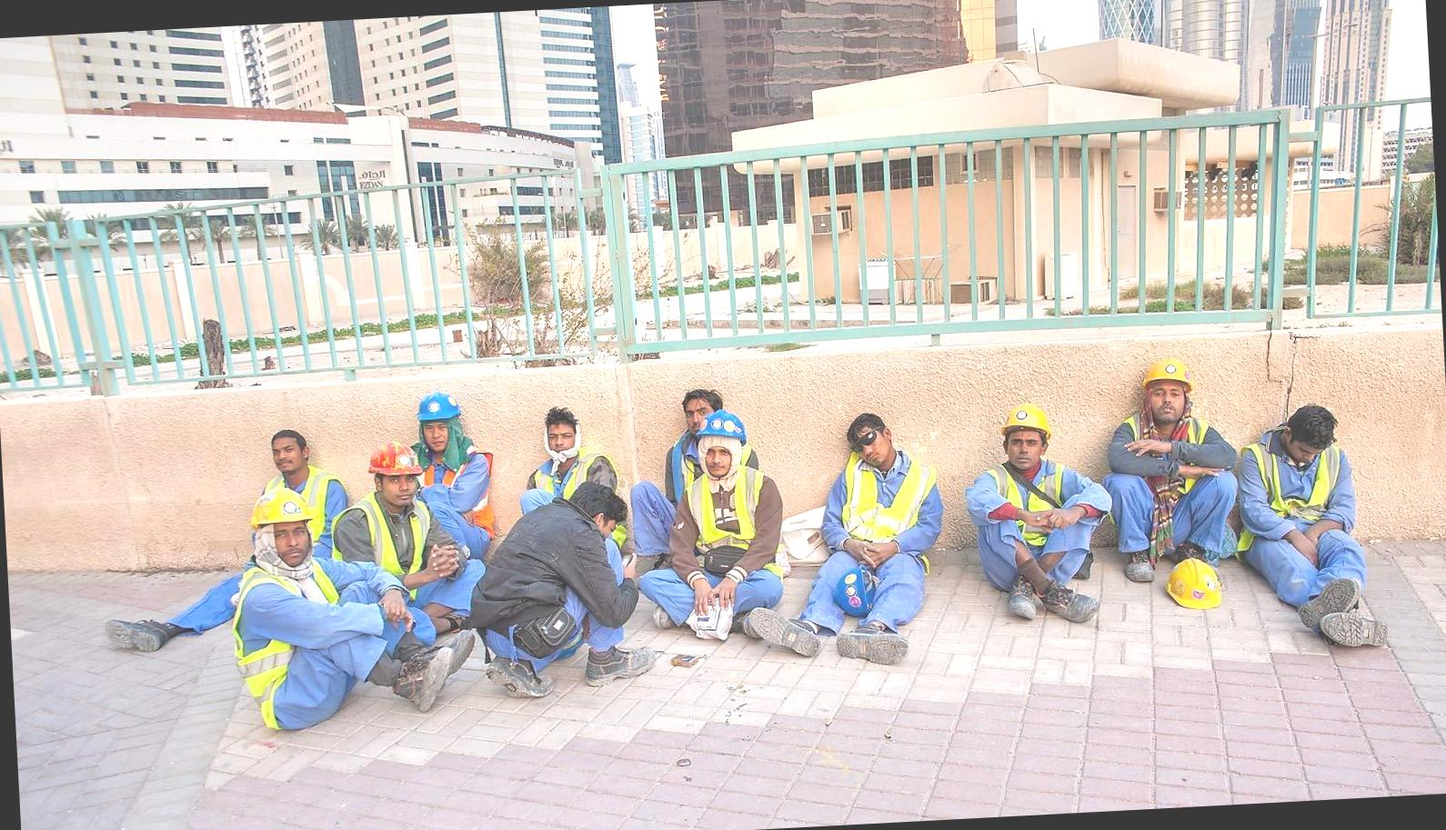helmet: (245, 478, 316, 528), (370, 440, 421, 478), (415, 386, 461, 422)
person: (1230, 390, 1396, 675), (460, 466, 659, 693), (1085, 339, 1250, 600), (236, 478, 410, 719), (645, 403, 805, 652), (962, 400, 1119, 635), (802, 408, 941, 655), (331, 434, 434, 593), (401, 391, 497, 547), (514, 400, 625, 512)
